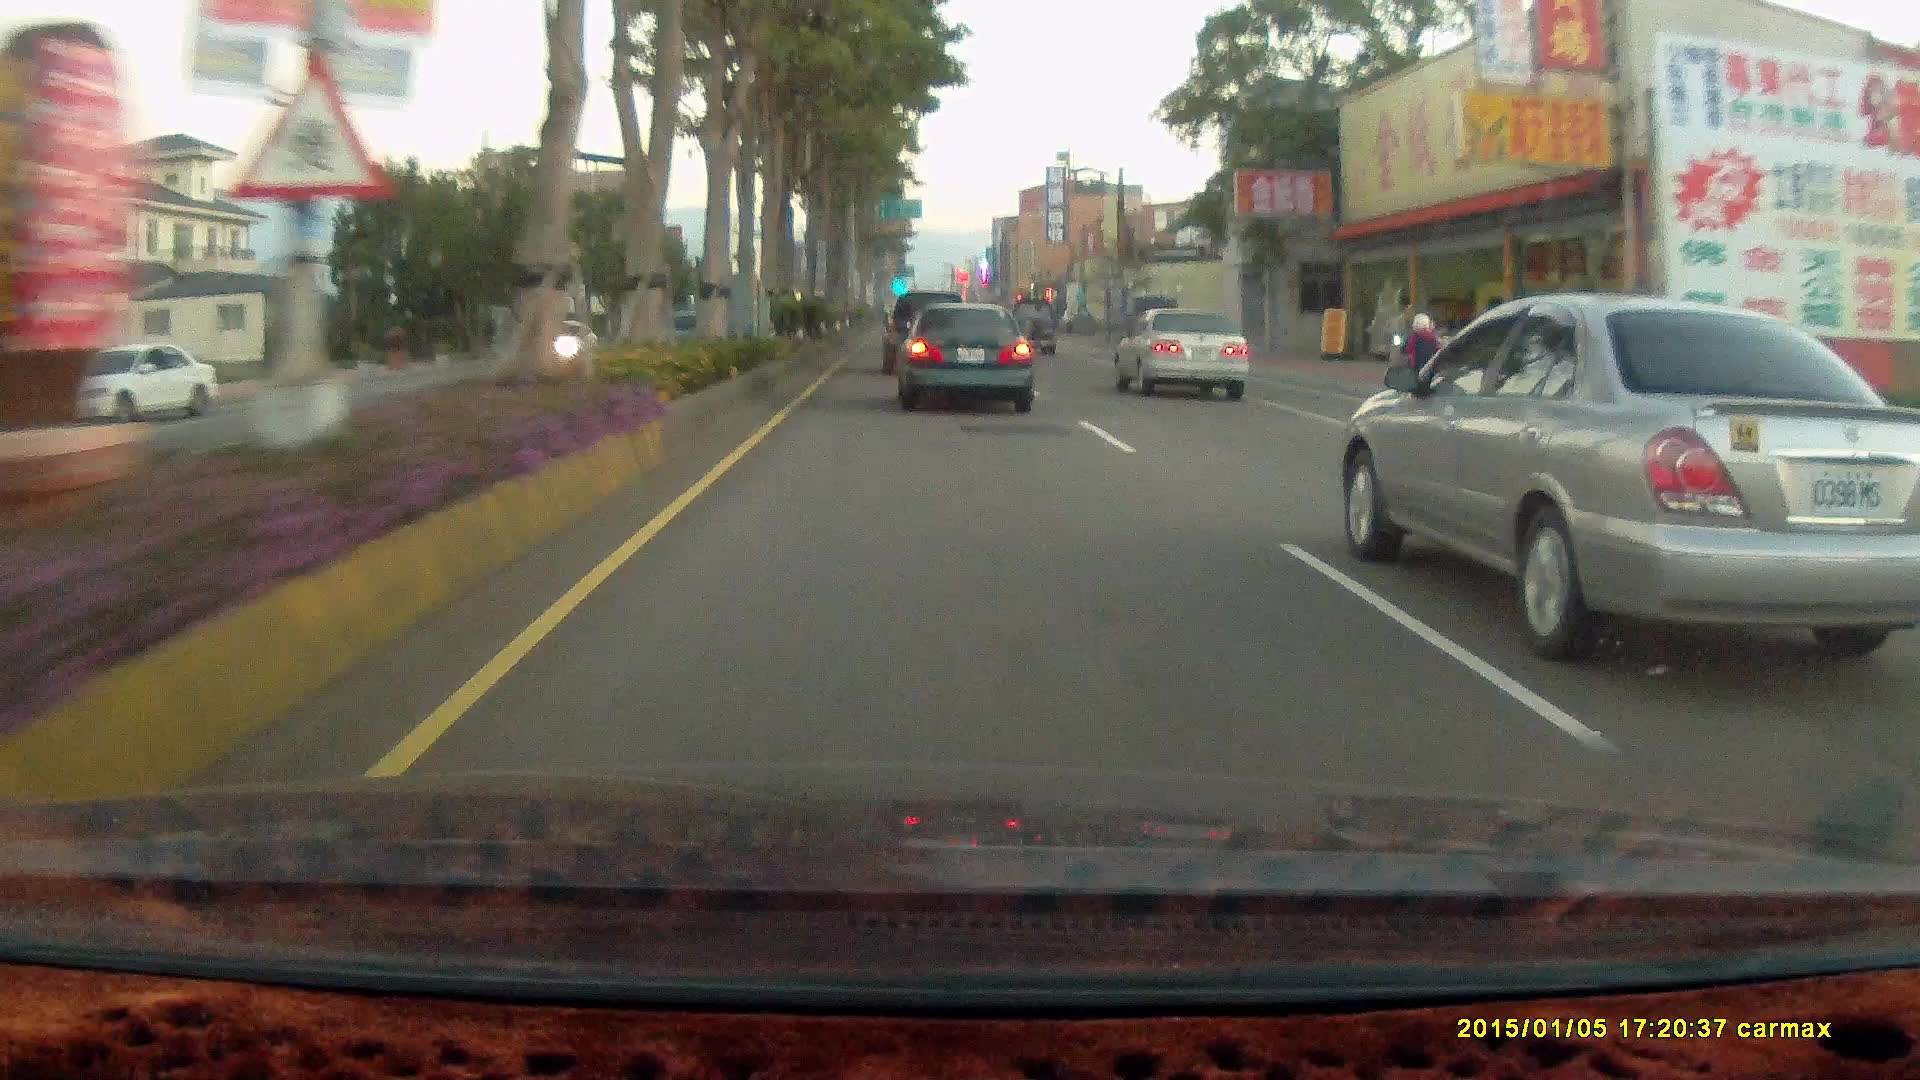rider: (1382, 305, 1454, 423), (1394, 309, 1452, 418)
vehicle: (1341, 289, 1920, 639), (21, 340, 212, 427), (34, 340, 218, 430), (895, 299, 1037, 416), (893, 300, 1035, 412), (1111, 306, 1249, 399), (1122, 302, 1257, 393), (883, 291, 973, 375), (880, 290, 963, 376), (515, 317, 601, 369), (1004, 293, 1057, 357)
